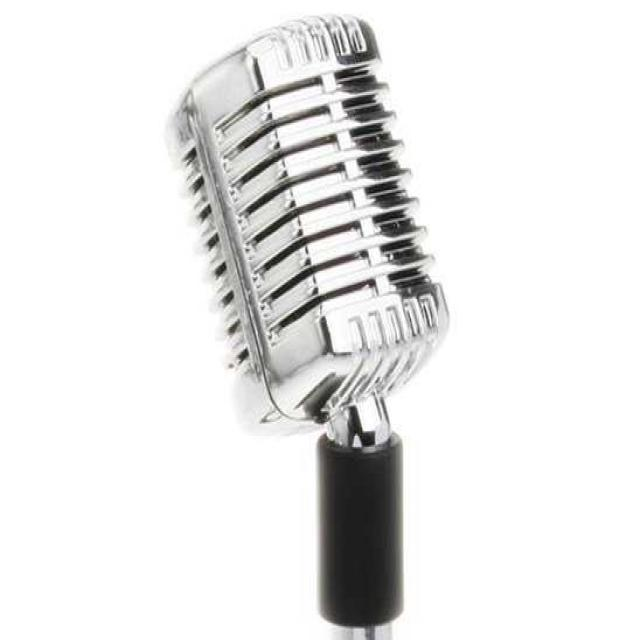microphone: (157, 14, 492, 484)
